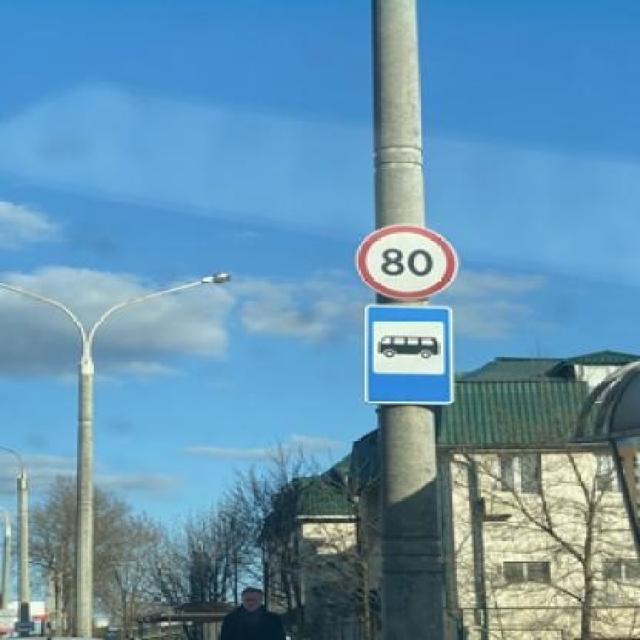forb_speed_over_80: (356, 223, 459, 302)
